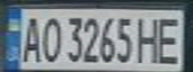2: (81, 12, 100, 64)
3: (63, 12, 84, 63)
5: (115, 12, 139, 63)
6: (97, 12, 118, 64)
A: (18, 11, 45, 64)
E: (154, 12, 187, 65)
H: (133, 13, 163, 64)
O: (39, 12, 63, 63)
